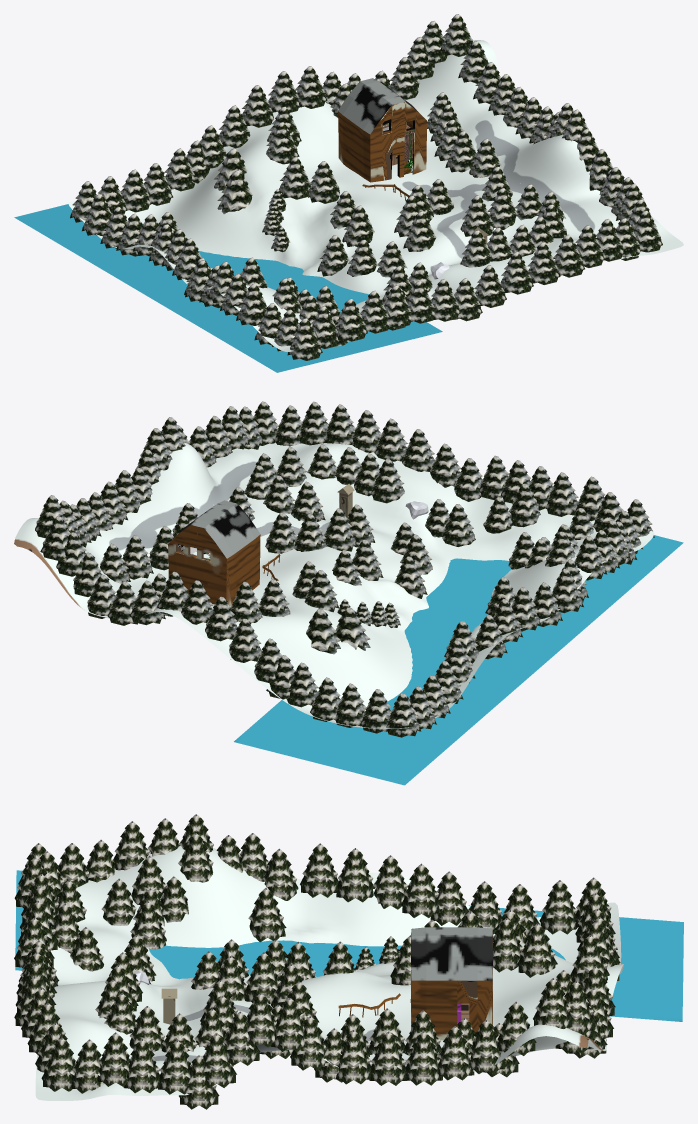
Rendered from forest_nav.mtl.obj.
3 renders of one model, top to bottom at view 1: azimuth 30°, elevation 25°; view 2: azimuth 150°, elevation 25°; view 3: azimuth 270°, elevation 25°, orthographic. The views are drawn at different scales.
Parts seen in each view (by area): view 1: Plane; view 2: Plane; view 3: Plane.
Part boxes in pixels (left/top/right/bottom): Plane: left=14, top=14, right=683, bottom=372; Plane: left=14, top=401, right=683, bottom=785; Plane: left=14, top=814, right=683, bottom=1109.
Bounding box in the file's own units: 102 × 33.58 × 112.
